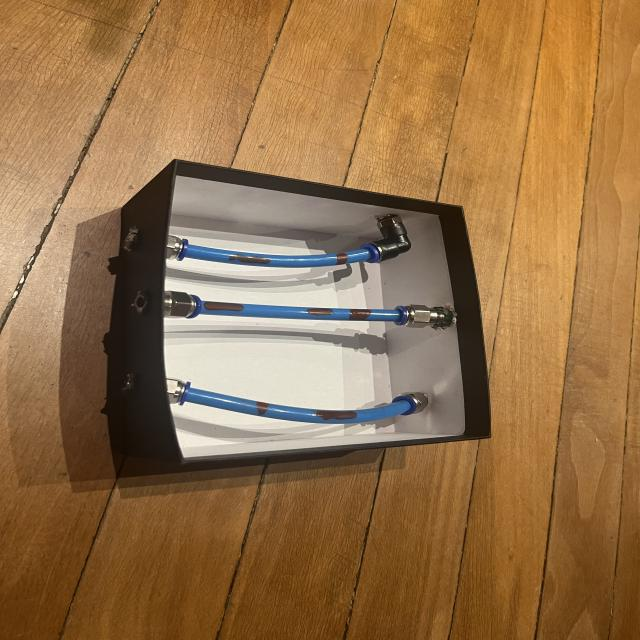hose_damage: (315, 409, 357, 421), (203, 300, 244, 312), (227, 253, 271, 264), (348, 308, 372, 322), (304, 306, 335, 316), (254, 400, 270, 417), (334, 252, 350, 267)
